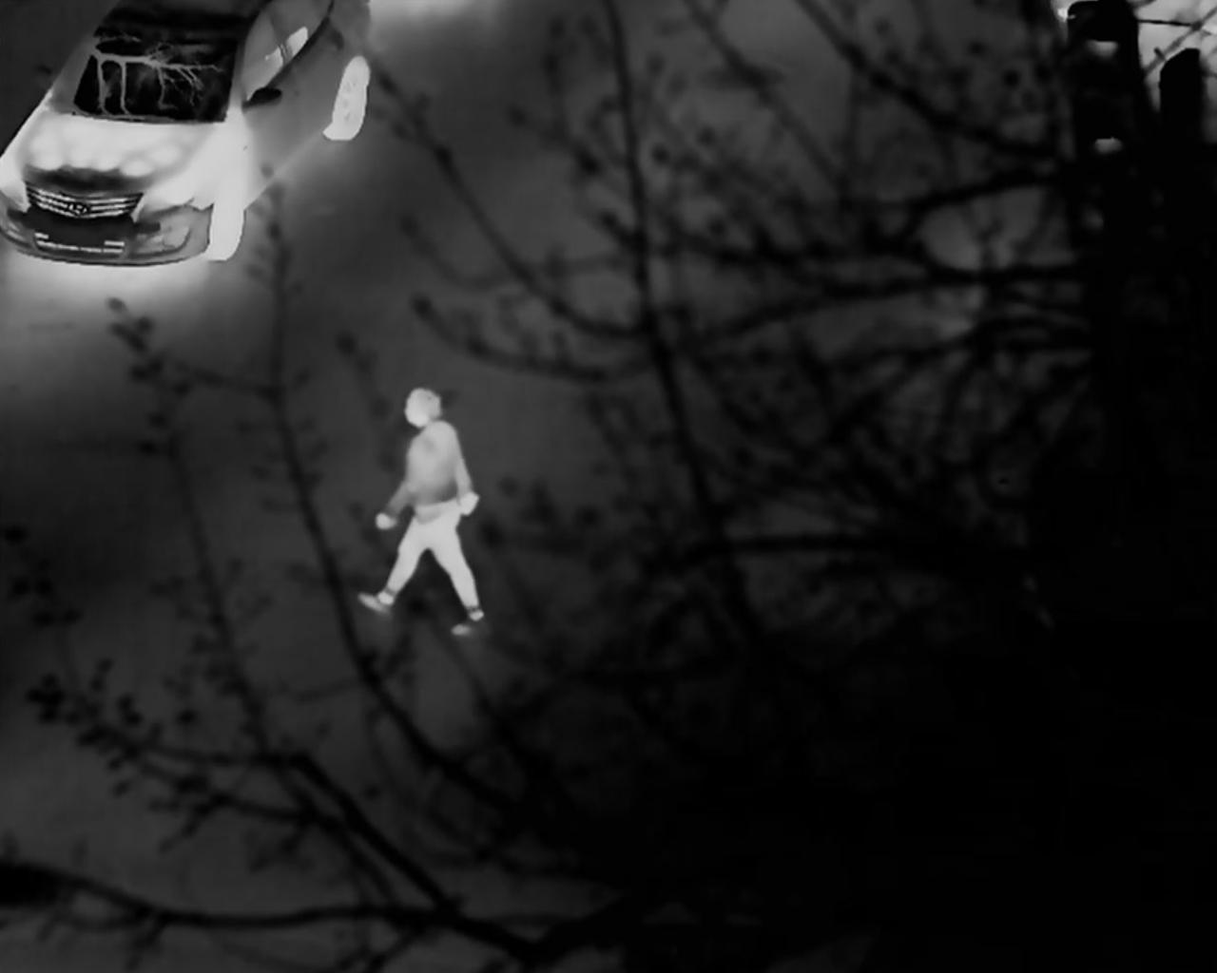person: (349, 391, 496, 639)
